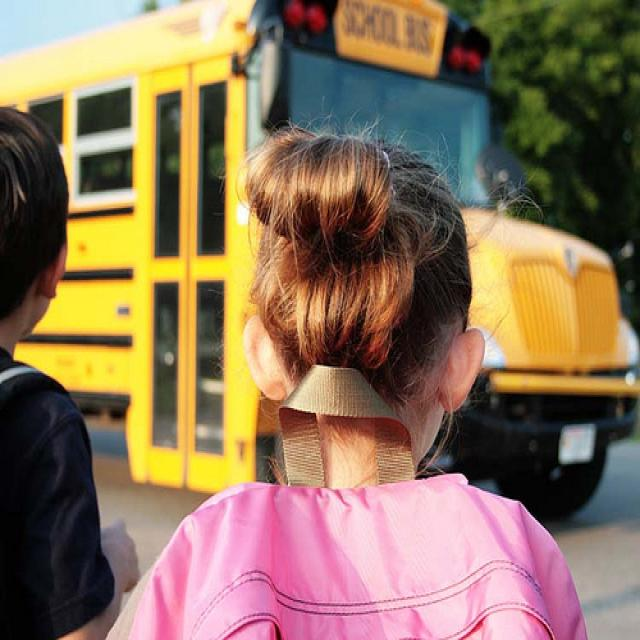Vehicle: (3, 0, 640, 525)
